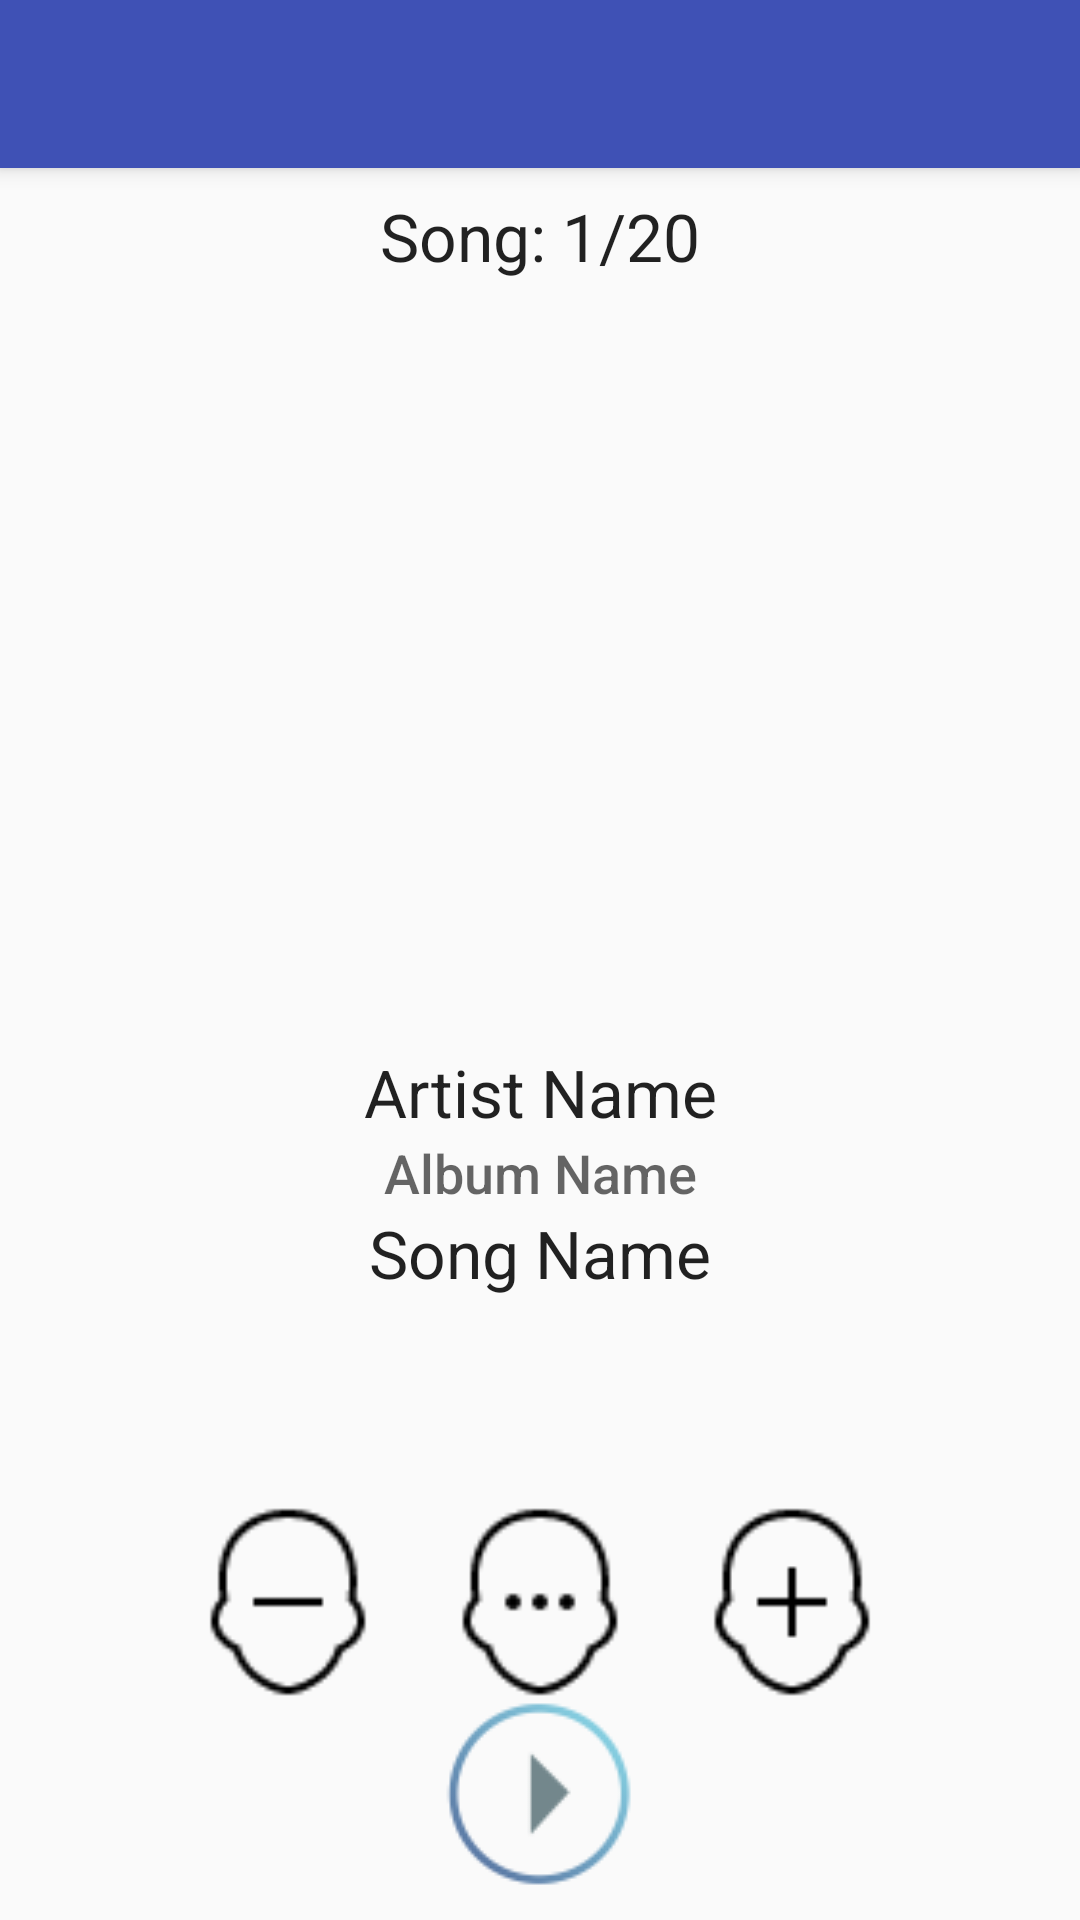

Named icons in this screenshot (1080 × 1920) and their bounding boxes, (x1, y1, x2, y2):
bad: (210, 1508, 366, 1696)
good: (714, 1508, 870, 1696)
neutral: (462, 1508, 618, 1696)
play: (448, 1703, 631, 1885)
